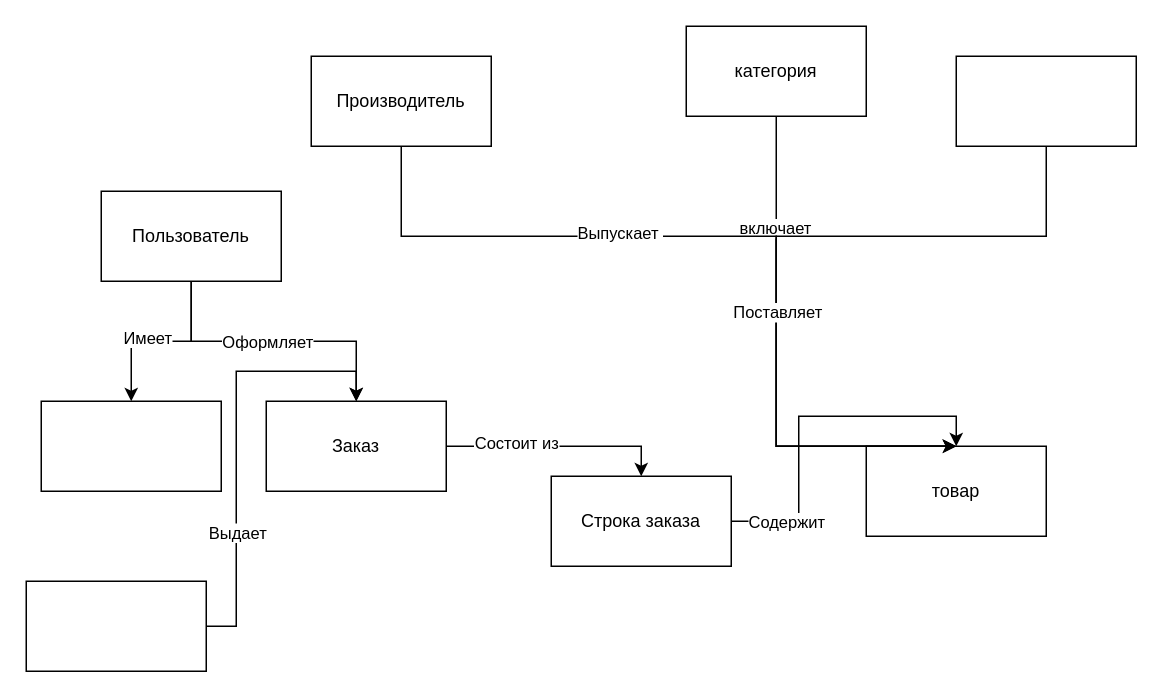
Some shapes in this 1163 by 698 pixel diagram are drawn without their labels. Here are the shapes that lost their labels. From the top down, the centre of each, then its label:
At point (1045, 100): "поставщик".
At point (130, 445): "Роль".
At point (115, 625): "Пункт выдачи".
